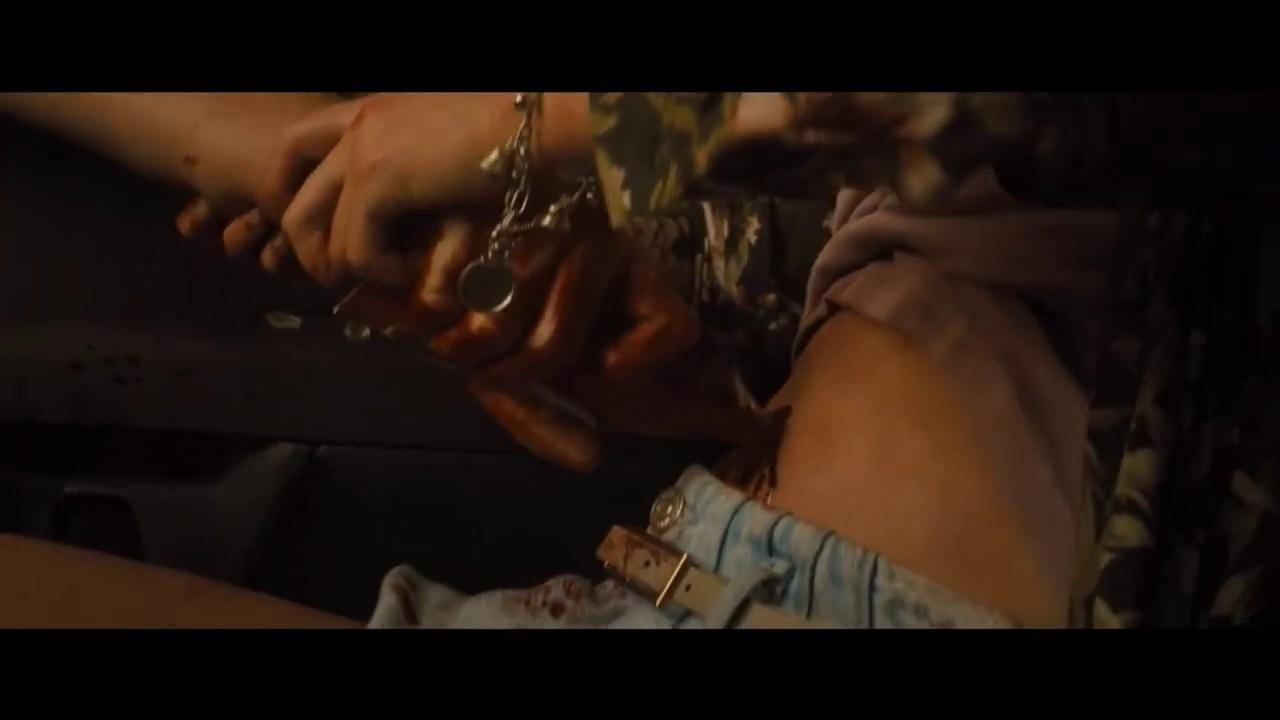Fire: (571, 239, 801, 499), (460, 239, 557, 368), (485, 393, 583, 469), (596, 528, 697, 599), (72, 357, 154, 408), (524, 579, 579, 619), (377, 574, 420, 625), (189, 158, 198, 167)
